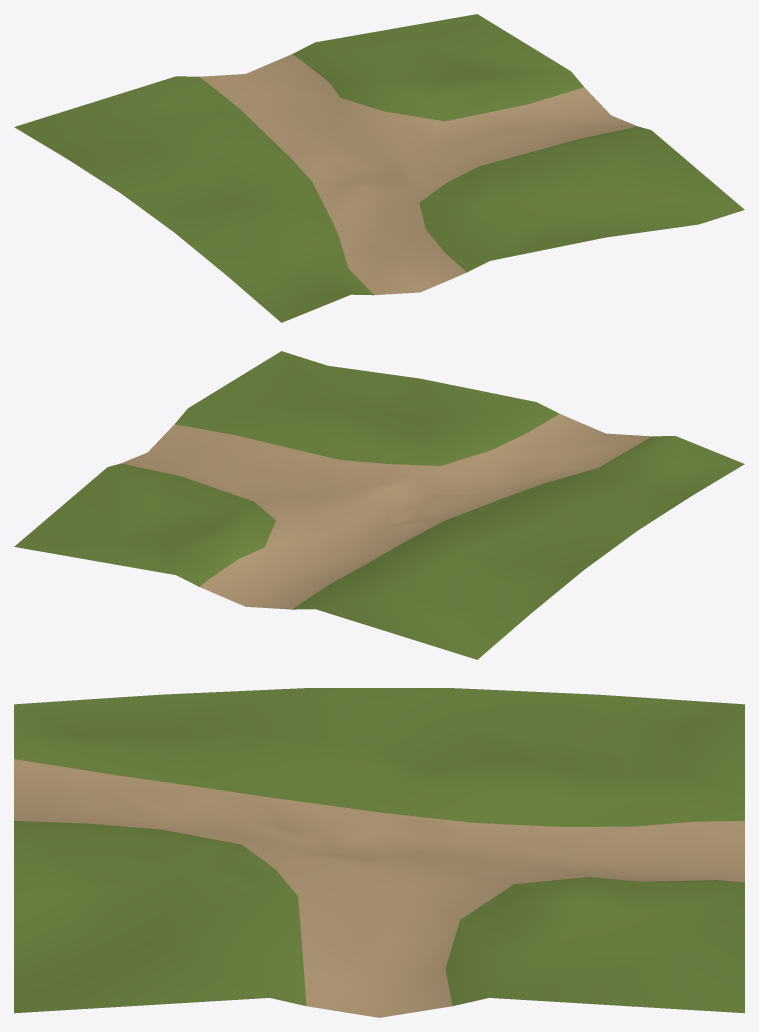
File: rpgpp_ag_terrain_path_03_10x10m_crossing_a.fbx
The picture shows the model from 3 angles, top to bottom: view 1: azimuth 30°, elevation 25°; view 2: azimuth 150°, elevation 25°; view 3: azimuth 270°, elevation 25°; orthographic projection. The views are drawn at different scales.
Parts seen in each view (by area): view 1: rpgpp_ag_terrain_path_03_10x10m_crossing_a; view 2: rpgpp_ag_terrain_path_03_10x10m_crossing_a; view 3: rpgpp_ag_terrain_path_03_10x10m_crossing_a.
Part boxes in pixels (box(x1,y1,x2,y2)): rpgpp_ag_terrain_path_03_10x10m_crossing_a: box(14, 14, 744, 322); rpgpp_ag_terrain_path_03_10x10m_crossing_a: box(14, 351, 744, 659); rpgpp_ag_terrain_path_03_10x10m_crossing_a: box(14, 688, 744, 1017).
Size of the model in its own units: 10 by 0.3818 by 10.
